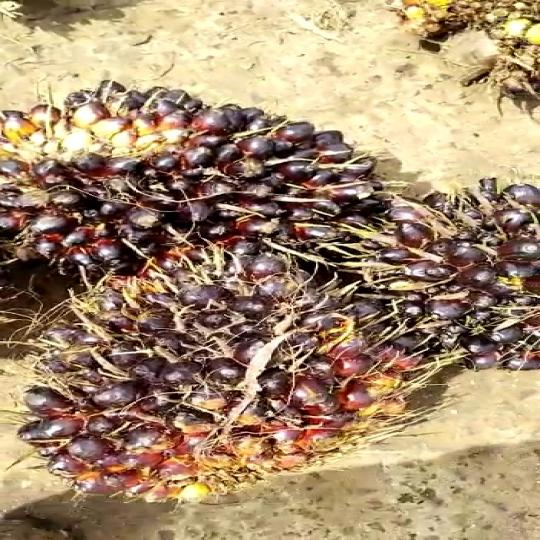mentah: (1, 250, 431, 492), (0, 59, 401, 278), (332, 169, 535, 376)
